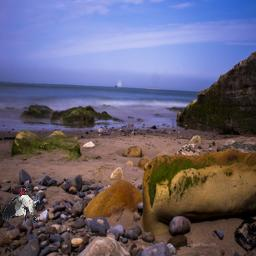Woodpecker: (2, 187, 40, 225)
